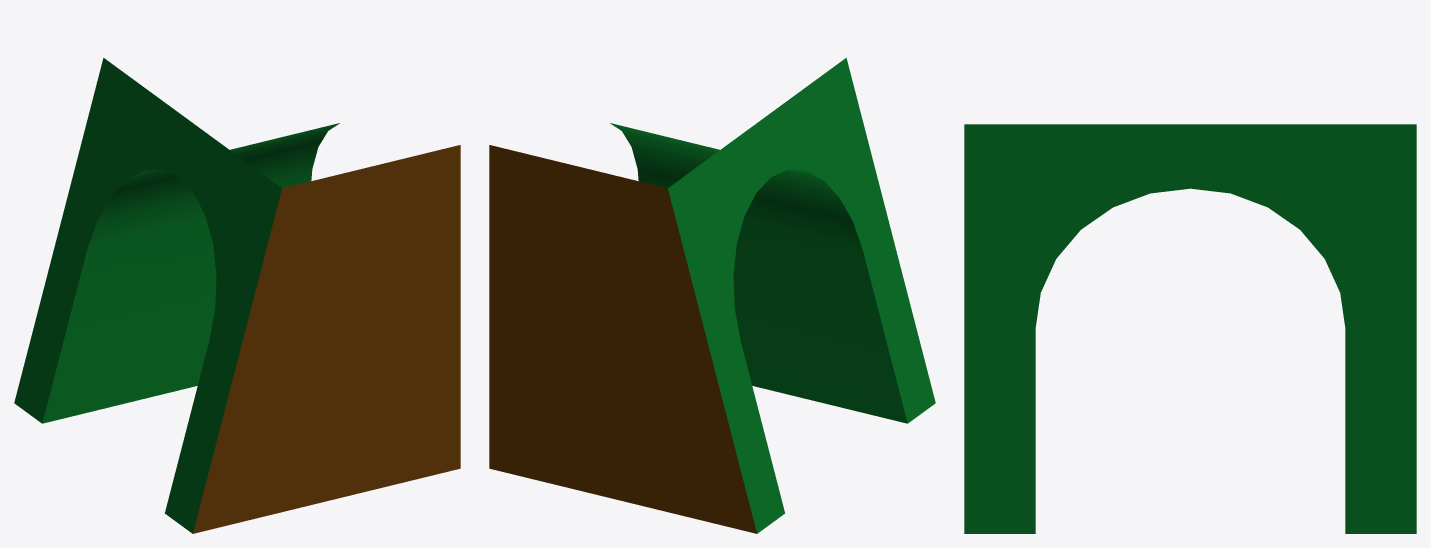
Rendered from castleDoorway.glb.
3 renders of one model, left to right at view 1: azimuth 30°, elevation 25°; view 2: azimuth 150°, elevation 25°; view 3: azimuth 270°, elevation 25°, orthographic. The views are drawn at different scales.
Visible parts, largest first — view 1: levelCastle_wallA2_side_archway; view 2: levelCastle_wallA2_side_archway; view 3: levelCastle_wallA2_side_archway.
Part boxes in pixels (x1,y1,x2,y2): levelCastle_wallA2_side_archway: (14,57,460,533); levelCastle_wallA2_side_archway: (489,57,935,533); levelCastle_wallA2_side_archway: (964,124,1416,533).
Size of the model in its own units: 3.46 by 4 by 4.
